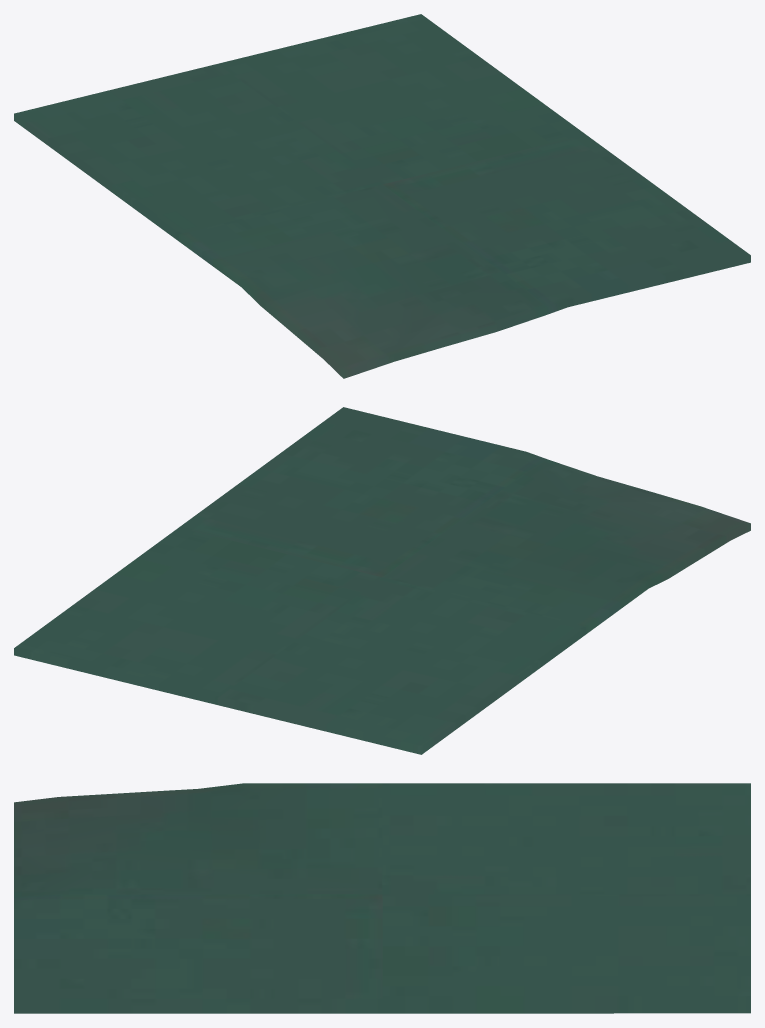
The picture shows the model from 3 angles, top to bottom: view 1: azimuth 30°, elevation 25°; view 2: azimuth 150°, elevation 25°; view 3: azimuth 270°, elevation 25°; orthographic projection. The views are drawn at different scales.
Parts seen in each view (by area): view 1: 30436272704370637610_0; view 2: 30436272704370637610_0; view 3: 30436272704370637610_0.
Part boxes in pixels (x1,y1,x2,y2): 30436272704370637610_0: (14,14,750,378); 30436272704370637610_0: (14,407,750,754); 30436272704370637610_0: (14,783,750,1013).
Size of the model in its own units: 27.32 by 1.56 by 38.26.
Materials: 1 (1 with a texture image).
